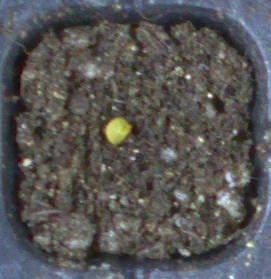chilli seed: (104, 117, 131, 145)
